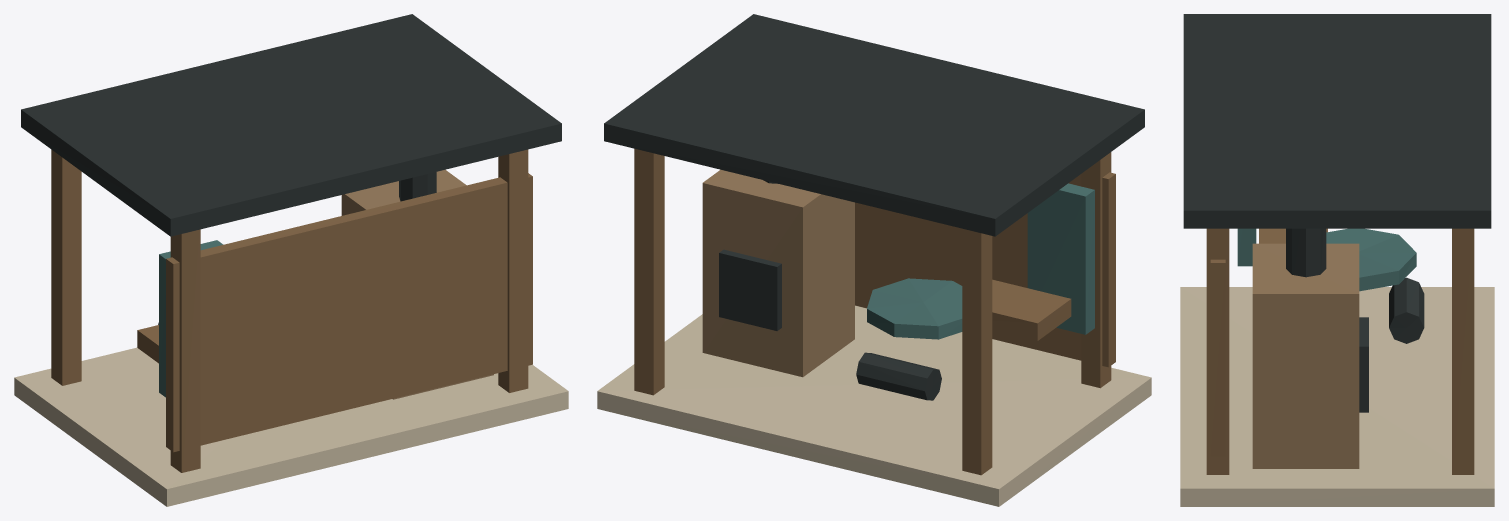
The model's file is pottery-workshop.source.glb.
3 renders of one model, left to right at view 1: azimuth 30°, elevation 25°; view 2: azimuth 150°, elevation 25°; view 3: azimuth 270°, elevation 25°, orthographic. The views are drawn at different scales.
Visible parts, largest first — view 1: pottery-workshop-sloped-roof-mesh, pottery-workshop-rear-wall-mesh, pottery-workshop-raised-floor-mesh, pottery-workshop-shed-post-0-mesh, pottery-workshop-shed-post-3-mesh, pottery-workshop-shed-post-2-mesh, pottery-workshop-brick-kiln-mesh, pottery-workshop-shelf-rack-mesh, pottery-workshop-kiln-chimney-mesh, pottery-workshop-clay-workbench-mesh; view 2: pottery-workshop-sloped-roof-mesh, pottery-workshop-raised-floor-mesh, pottery-workshop-brick-kiln-mesh, pottery-workshop-rear-wall-mesh, pottery-workshop-shelf-rack-mesh, pottery-workshop-shed-post-1-mesh, pottery-workshop-shed-post-0-mesh, pottery-workshop-pottery-wheel-mesh, pottery-workshop-kiln-door-mesh, pottery-workshop-clay-workbench-mesh, pottery-workshop-shed-post-2-mesh, pottery-workshop-wheel-pedal-mesh; view 3: pottery-workshop-sloped-roof-mesh, pottery-workshop-raised-floor-mesh, pottery-workshop-brick-kiln-mesh, pottery-workshop-shed-post-1-mesh, pottery-workshop-pottery-wheel-mesh, pottery-workshop-shed-post-3-mesh, pottery-workshop-rear-wall-mesh, pottery-workshop-wheel-pedal-mesh, pottery-workshop-kiln-chimney-mesh, pottery-workshop-kiln-door-mesh, pottery-workshop-shelf-rack-mesh, pottery-workshop-clay-workbench-mesh.
Part boxes in pixels (left/top/right/bottom): pottery-workshop-sloped-roof-mesh: left=21, top=14, right=561, bottom=236; pottery-workshop-rear-wall-mesh: left=166, top=173, right=532, bottom=452; pottery-workshop-raised-floor-mesh: left=14, top=347, right=568, bottom=506; pottery-workshop-shed-post-0-mesh: left=51, top=149, right=81, bottom=385; pottery-workshop-shed-post-3-mesh: left=498, top=149, right=528, bottom=392; pottery-workshop-shed-post-2-mesh: left=170, top=229, right=200, bottom=472; pottery-workshop-brick-kiln-mesh: left=341, top=169, right=493, bottom=399; pottery-workshop-shelf-rack-mesh: left=159, top=240, right=223, bottom=397; pottery-workshop-kiln-chimney-mesh: left=399, top=172, right=436, bottom=201; pottery-workshop-clay-workbench-mesh: left=137, top=325, right=158, bottom=363; pottery-workshop-sloped-roof-mesh: left=604, top=14, right=1144, bottom=236; pottery-workshop-raised-floor-mesh: left=597, top=305, right=1151, bottom=506; pottery-workshop-brick-kiln-mesh: left=702, top=169, right=854, bottom=377; pottery-workshop-rear-wall-mesh: left=855, top=172, right=1115, bottom=367; pottery-workshop-shelf-rack-mesh: left=1027, top=183, right=1094, bottom=334; pottery-workshop-shed-post-1-mesh: left=634, top=148, right=664, bottom=395; pottery-workshop-shed-post-0-mesh: left=962, top=228, right=992, bottom=475; pottery-workshop-pottery-wheel-mesh: left=867, top=278, right=962, bottom=339; pottery-workshop-kiln-door-mesh: left=719, top=249, right=781, bottom=330; pottery-workshop-clay-workbench-mesh: left=992, top=279, right=1071, bottom=340; pottery-workshop-shed-post-2-mesh: left=1081, top=152, right=1111, bottom=388; pottery-workshop-wheel-pedal-mesh: left=856, top=352, right=941, bottom=400; pottery-workshop-sloped-roof-mesh: left=1183, top=14, right=1491, bottom=228; pottery-workshop-raised-floor-mesh: left=1180, top=287, right=1494, bottom=506; pottery-workshop-brick-kiln-mesh: left=1252, top=243, right=1359, bottom=468; pottery-workshop-shed-post-1-mesh: left=1452, top=228, right=1474, bottom=474; pottery-workshop-pottery-wheel-mesh: left=1326, top=228, right=1416, bottom=291; pottery-workshop-shed-post-3-mesh: left=1206, top=228, right=1229, bottom=474; pottery-workshop-rear-wall-mesh: left=1210, top=259, right=1225, bottom=456; pottery-workshop-wheel-pedal-mesh: left=1389, top=277, right=1424, bottom=343; pottery-workshop-kiln-chimney-mesh: left=1286, top=228, right=1326, bottom=277; pottery-workshop-kiln-door-mesh: left=1359, top=317, right=1368, bottom=412; pottery-workshop-shelf-rack-mesh: left=1237, top=228, right=1256, bottom=266; pottery-workshop-clay-workbench-mesh: left=1259, top=228, right=1327, bottom=243.
Size of the model in its own units: 3.8 by 2.58 by 2.5.
